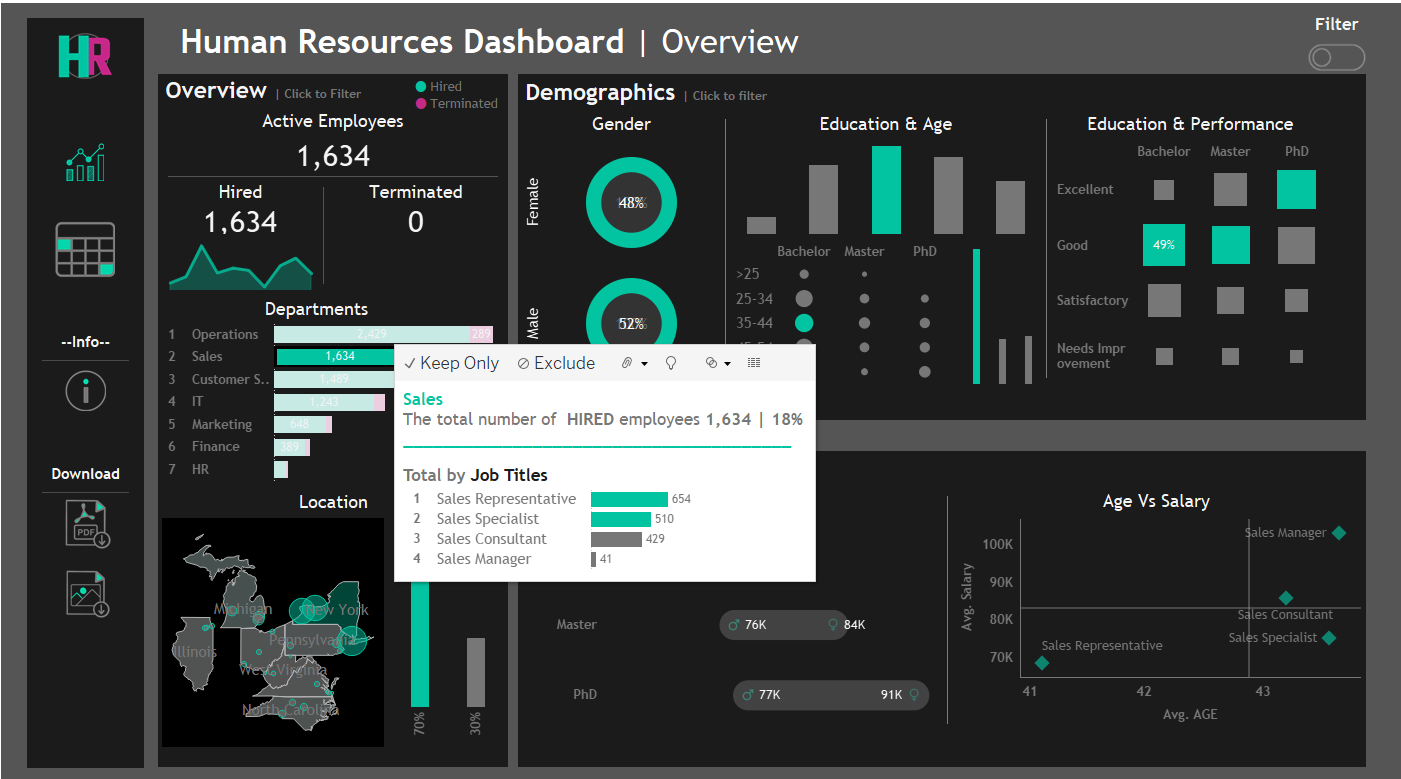

Layout of this report page (visuals, bound fields, positions):
{"tool":"tableau","page":{"name":"HR | Summary (3)","canvas":[1400,800],"ordinal":3},"visuals":[{"type":"blank","box":[7,7,130,393]},{"type":"text","box":[143,7,676,64]},{"type":"blank","box":[819,7,536,64]},{"type":"text","box":[149,77,352,32]},{"type":"text","box":[509,79,838,35]},{"type":"text","box":[149,109,352,29]},{"type":"text","box":[511,116,207,29]},{"type":"blank","box":[718,116,25,246]},{"type":"text","box":[743,116,261,29]},{"type":"blank","box":[1004,116,25,246]},{"type":"text","box":[1029,116,316,29]},{"type":"worksheet","title":"Active","mark":"Text","box":[149,138,352,41]},{"type":"worksheet","title":"Gender","mark":"Pie","rows":["Gender"],"cols":["Calculation_1937110846429085710","Calculation_1937110846429085710"],"box":[511,145,207,217]},{"type":"worksheet","title":"Age Group","mark":"Bar","rows":["Calculation_1937110846402056192"],"cols":["Calculation_1937110846440509456"],"box":[743,145,261,100]},{"type":"worksheet","title":"Education VS Performance","mark":"Square","rows":["Performance Rating"],"cols":["Education Level"],"box":[1029,145,316,217]},{"type":"blank","box":[149,179,352,25]},{"type":"text","box":[151,206,165,29]},{"type":"blank","box":[316,206,17,113]},{"type":"text","box":[333,206,166,29]},{"type":"worksheet","title":"HIRED","mark":"Text","box":[151,235,165,32]},{"type":"worksheet","title":"Terminated","mark":"Text","box":[333,235,166,32]},{"type":"worksheet","title":"Age VS Education","mark":"Pie","rows":["Calculation_1937110846440509456"],"cols":["Education Level"],"box":[743,245,152.5,117]},{"type":"worksheet","title":"Education Level","mark":"Bar","rows":["Calculation_1937110846402056192"],"cols":["Education Level"],"box":[895.5,245,108.5,117]},{"type":"worksheet","title":"Hired by Years","mark":"Line","rows":["Calculation_1937110846402056192","Calculation_1937110846402056192"],"cols":["Hiredate"],"box":[151,267,165,52]},{"type":"worksheet","title":"Terminated by Years","mark":"Line","rows":["Calculation_1937110846402326529","Calculation_1937110846402326529"],"cols":["Termdate"],"box":[333,267,166,52]},{"type":"blank","box":[149,321,118.7,25]},{"type":"text","box":[267.7,321,114.7,25]},{"type":"blank","box":[382.3,321,118.7,25]},{"type":"worksheet","title":"Departments","mark":"Bar","rows":["Calculation_1937110846415405062","Department"],"cols":["Calculation_1937110846402056192"],"box":[149,346,352,166]},{"type":"blank","box":[7,400,130,393]},{"type":"text","box":[509,415,838,35]},{"type":"text","box":[511,452,410.5,29]},{"type":"blank","box":[921.5,452,25,220]},{"type":"text","box":[946.5,452,398.5,29]},{"type":"worksheet","title":"Education VS Gender Level","mark":"Square","rows":["Education Level"],"cols":["Salary","Salary"],"box":[511,481,410.5,191]},{"type":"worksheet","title":"Age VS Salary","mark":"Shape","rows":["Salary"],"cols":["Calculation_1937110846439919631"],"box":[946.5,481,398.5,191]},{"type":"blank","box":[149,512,120,24]},{"type":"text","box":[269,512,112,24]},{"type":"blank","box":[381,512,120,24]},{"type":"worksheet","title":"MAP STATE","mark":"Automatic","box":[149,536,292,222]},{"type":"worksheet","title":"Location","mark":"Bar","rows":["Calculation_1937110846402056192"],"cols":["Calculation_1937110846422126599","Calculation1"],"box":[441,536,60,222]}]}

Visuals, with their boxes in screenshot pixels (x1, y1, x2, y2), scaled from the page's 1400x800 canvas onto the 1401x779 screenshot:
blank: pyautogui.locateOnScreen(7, 7, 137, 390)
text: pyautogui.locateOnScreen(143, 7, 820, 69)
blank: pyautogui.locateOnScreen(820, 7, 1356, 69)
text: pyautogui.locateOnScreen(149, 75, 501, 106)
text: pyautogui.locateOnScreen(509, 77, 1348, 111)
text: pyautogui.locateOnScreen(149, 106, 501, 134)
text: pyautogui.locateOnScreen(511, 113, 719, 141)
blank: pyautogui.locateOnScreen(719, 113, 744, 352)
text: pyautogui.locateOnScreen(744, 113, 1005, 141)
blank: pyautogui.locateOnScreen(1005, 113, 1030, 352)
text: pyautogui.locateOnScreen(1030, 113, 1346, 141)
"Active" worksheet (Text marks): pyautogui.locateOnScreen(149, 134, 501, 174)
"Gender" worksheet (Pie marks): pyautogui.locateOnScreen(511, 141, 719, 352)
"Age Group" worksheet (Bar marks): pyautogui.locateOnScreen(744, 141, 1005, 239)
"Education VS Performance" worksheet (Square marks): pyautogui.locateOnScreen(1030, 141, 1346, 352)
blank: pyautogui.locateOnScreen(149, 174, 501, 199)
text: pyautogui.locateOnScreen(151, 201, 316, 229)
blank: pyautogui.locateOnScreen(316, 201, 333, 311)
text: pyautogui.locateOnScreen(333, 201, 499, 229)
"HIRED" worksheet (Text marks): pyautogui.locateOnScreen(151, 229, 316, 260)
"Terminated" worksheet (Text marks): pyautogui.locateOnScreen(333, 229, 499, 260)
"Age VS Education" worksheet (Pie marks): pyautogui.locateOnScreen(744, 239, 896, 352)
"Education Level" worksheet (Bar marks): pyautogui.locateOnScreen(896, 239, 1005, 352)
"Hired by Years" worksheet (Line marks): pyautogui.locateOnScreen(151, 260, 316, 311)
"Terminated by Years" worksheet (Line marks): pyautogui.locateOnScreen(333, 260, 499, 311)
blank: pyautogui.locateOnScreen(149, 313, 268, 337)
text: pyautogui.locateOnScreen(268, 313, 383, 337)
blank: pyautogui.locateOnScreen(383, 313, 501, 337)
"Departments" worksheet (Bar marks): pyautogui.locateOnScreen(149, 337, 501, 499)
blank: pyautogui.locateOnScreen(7, 390, 137, 772)
text: pyautogui.locateOnScreen(509, 404, 1348, 438)
text: pyautogui.locateOnScreen(511, 440, 922, 468)
blank: pyautogui.locateOnScreen(922, 440, 947, 654)
text: pyautogui.locateOnScreen(947, 440, 1346, 468)
"Education VS Gender Level" worksheet (Square marks): pyautogui.locateOnScreen(511, 468, 922, 654)
"Age VS Salary" worksheet (Shape marks): pyautogui.locateOnScreen(947, 468, 1346, 654)
blank: pyautogui.locateOnScreen(149, 499, 269, 522)
text: pyautogui.locateOnScreen(269, 499, 381, 522)
blank: pyautogui.locateOnScreen(381, 499, 501, 522)
"MAP STATE" worksheet: pyautogui.locateOnScreen(149, 522, 441, 738)
"Location" worksheet (Bar marks): pyautogui.locateOnScreen(441, 522, 501, 738)
